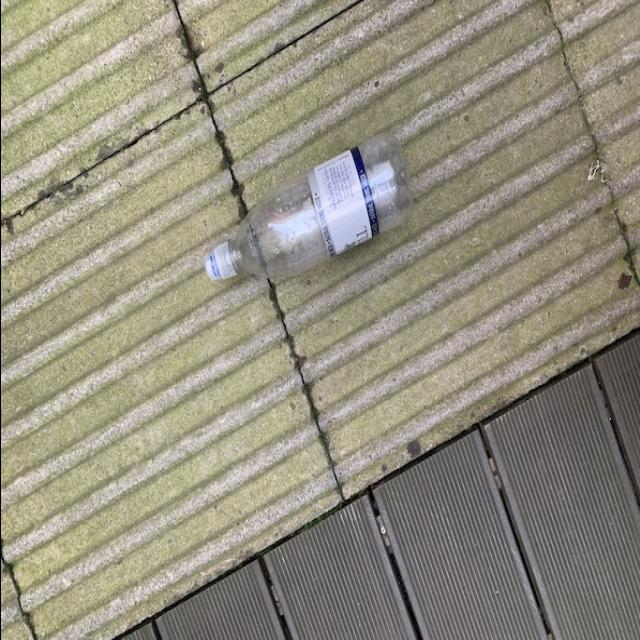PET: (200, 129, 410, 290)
